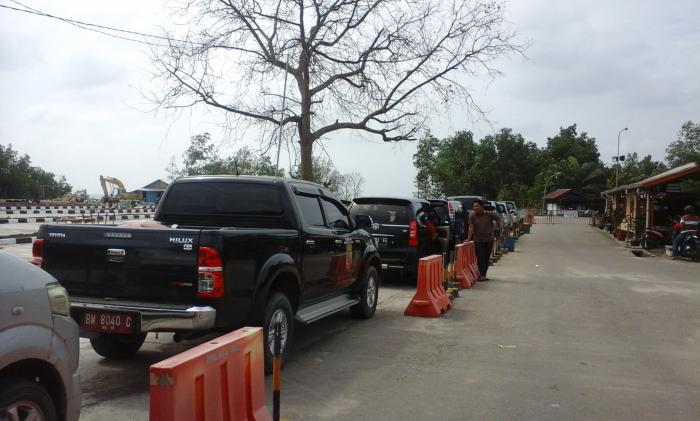plate: (79, 311, 132, 332)
